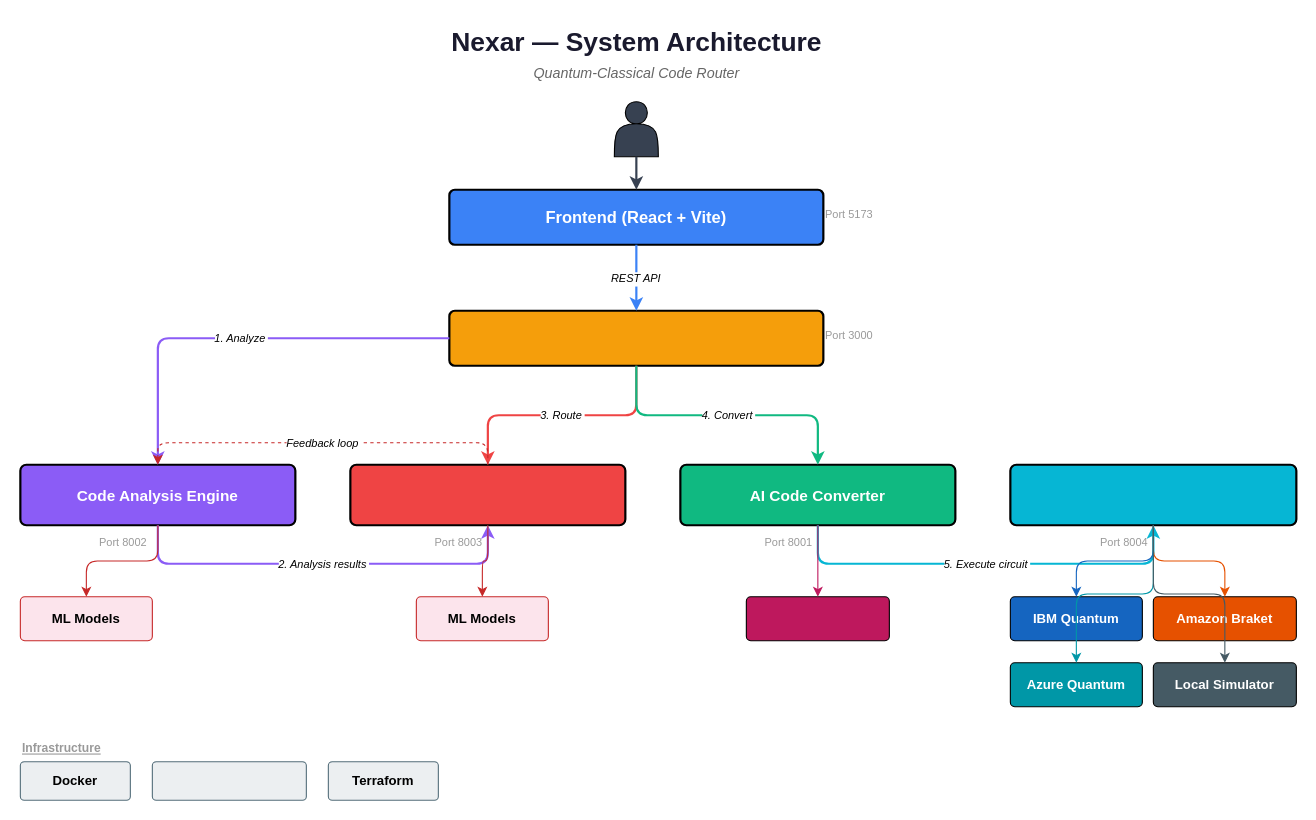
Some shapes in this 1316 by 820 pixel diagram are drawn without their labels. Each missing label, with the centre of its shape:
"API Gateway (Express.js)" goes at (x=636, y=337).
"Decision Engine" goes at (x=487, y=494).
"Google Cloud Run" goes at (x=228, y=780).
"Hardware Abstraction Layer" goes at (x=1153, y=494).
"LLM Provider" goes at (x=817, y=618).
"User" goes at (x=635, y=129).
